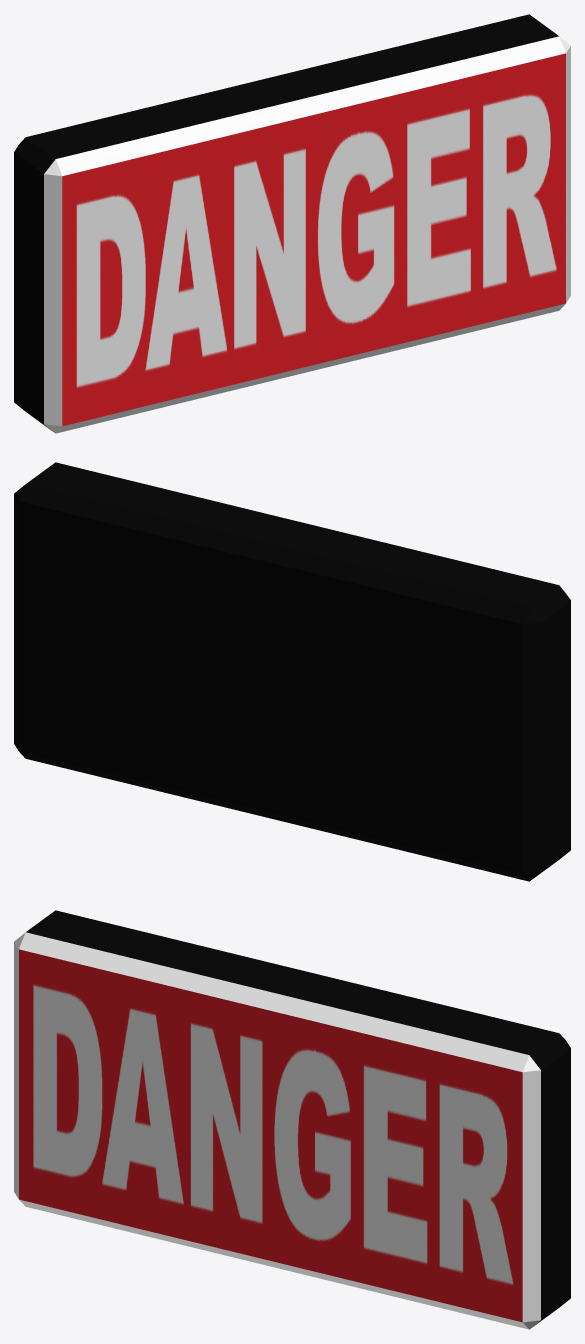
Rendered from Sign_Danger.fbx.
3 views of the same model, one above another, from view 1: azimuth 30°, elevation 25°; view 2: azimuth 150°, elevation 25°; view 3: azimuth 330°, elevation 25° (orthographic).
Parts seen in each view (by area): view 1: Danger Sign; view 2: Danger Sign; view 3: Danger Sign.
Part boxes in pixels (x1,y1,x2,y2): Danger Sign: [14, 14, 570, 433]; Danger Sign: [14, 462, 570, 881]; Danger Sign: [14, 910, 570, 1329].
Bounding box in the file's own units: 479 × 238 × 68.31.
